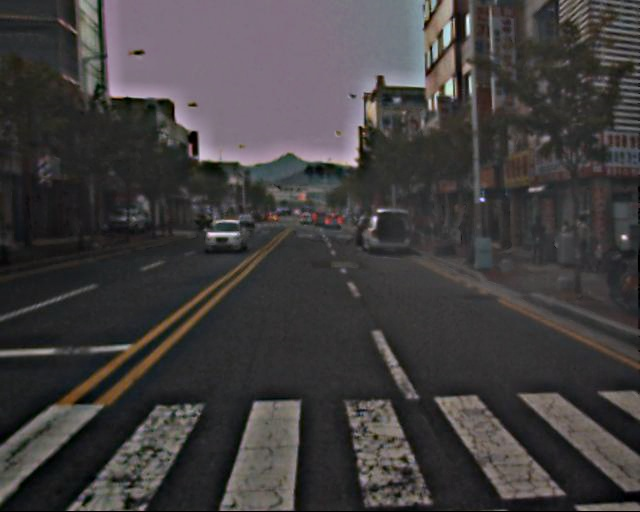person: (562, 215, 589, 262), (527, 217, 548, 268), (459, 215, 472, 247)
